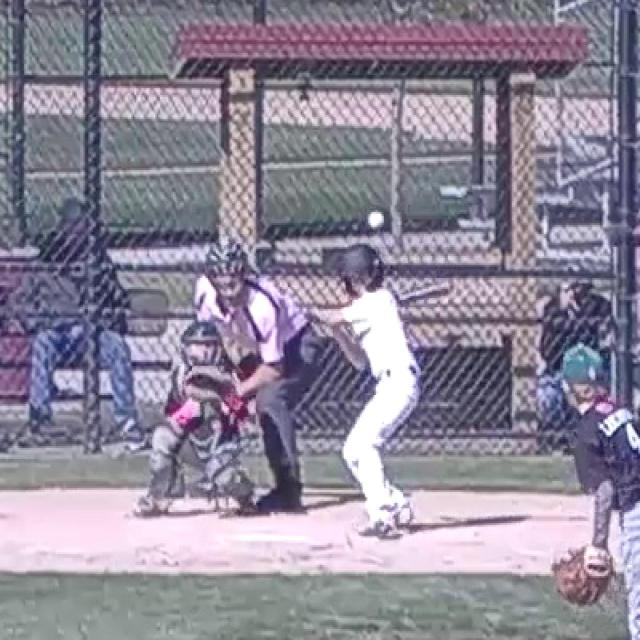baseball: (368, 212, 384, 228)
